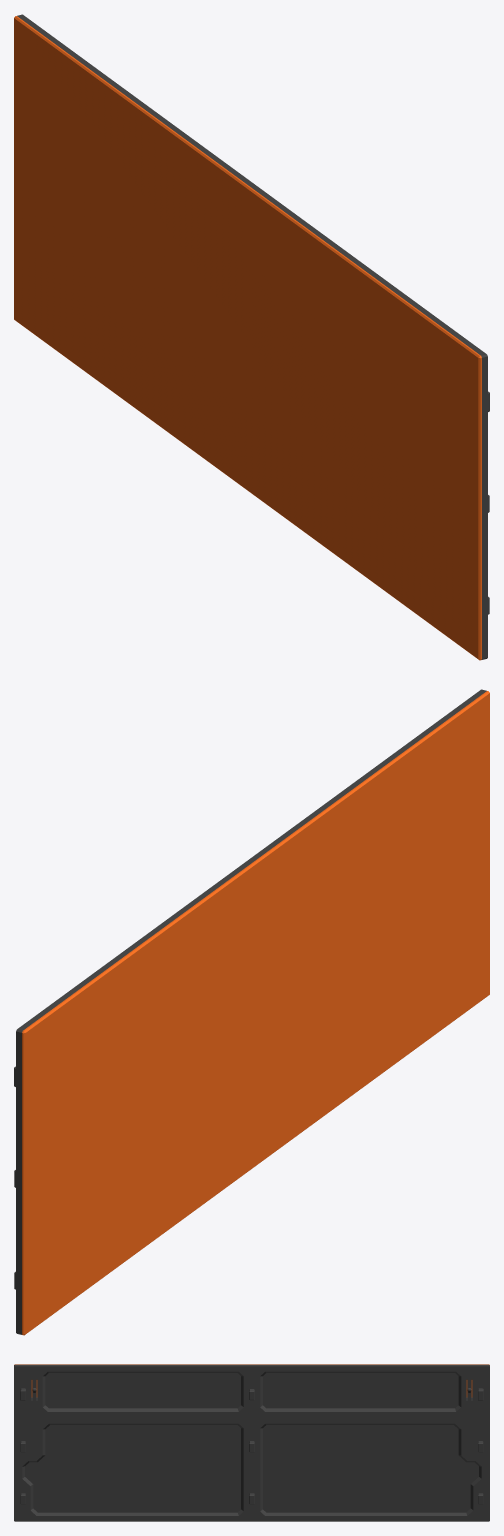
File: SideCover_240-15H.lib.glb
3 renders of one model, top to bottom at view 1: azimuth 30°, elevation 25°; view 2: azimuth 150°, elevation 25°; view 3: azimuth 270°, elevation 25°, orthographic. The views are drawn at different scales.
Visible parts, largest first — view 1: SideCover_240-15H; view 2: SideCover_240-15H; view 3: SideCover_240-15H.
Boxes of the visible parts, x1,y1,x2,y2 form: SideCover_240-15H: (14, 14, 489, 660); SideCover_240-15H: (14, 689, 489, 1335); SideCover_240-15H: (14, 1364, 489, 1521).
Size of the model in its own units: 5.04 by 83.61 by 232.
